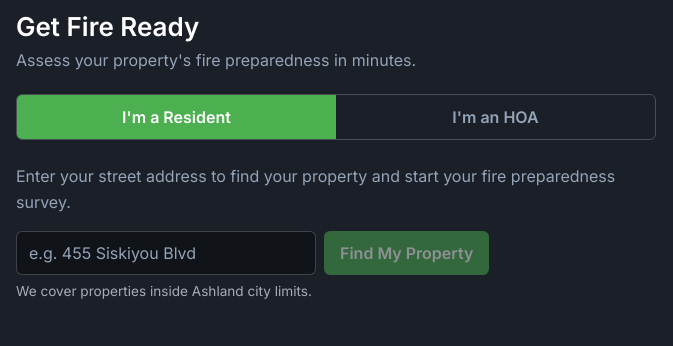
Test: PreparePage › does NOT auto-navigate on a single result (autoSelectSingle=false)
Type "570 Siskiyou" into the field named "Your Ashland property address" at (166, 253), box x1=16 y1=231 x2=316 y2=275
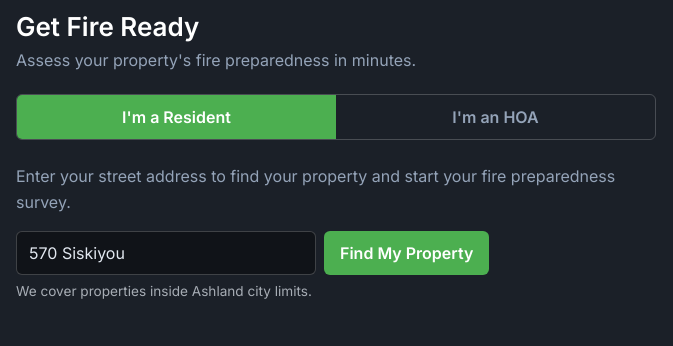
Click the button "Find My Property" at (407, 253), box x1=324 y1=231 x2=489 y2=275
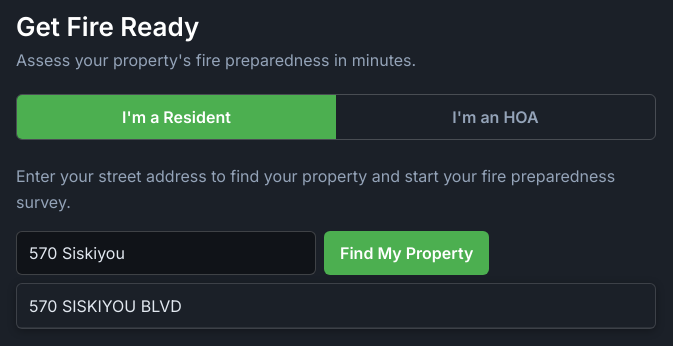
Result: the button "570 SISKIYOU BLVD" is shown at x1=17 y1=284 x2=655 y2=328
